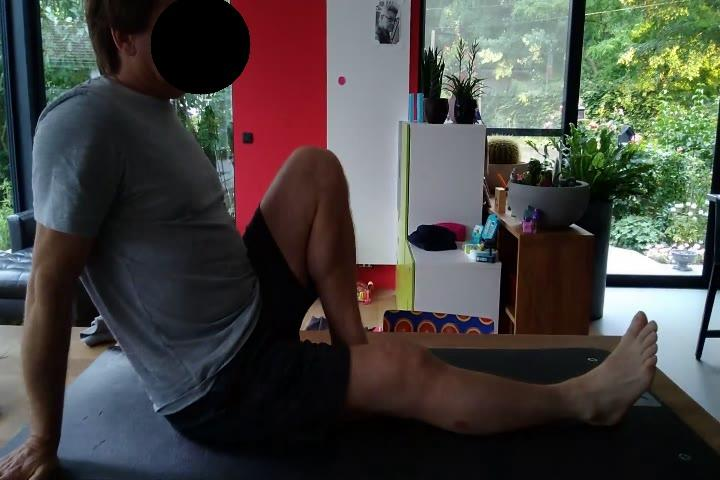lower_body: (162, 143, 660, 439)
